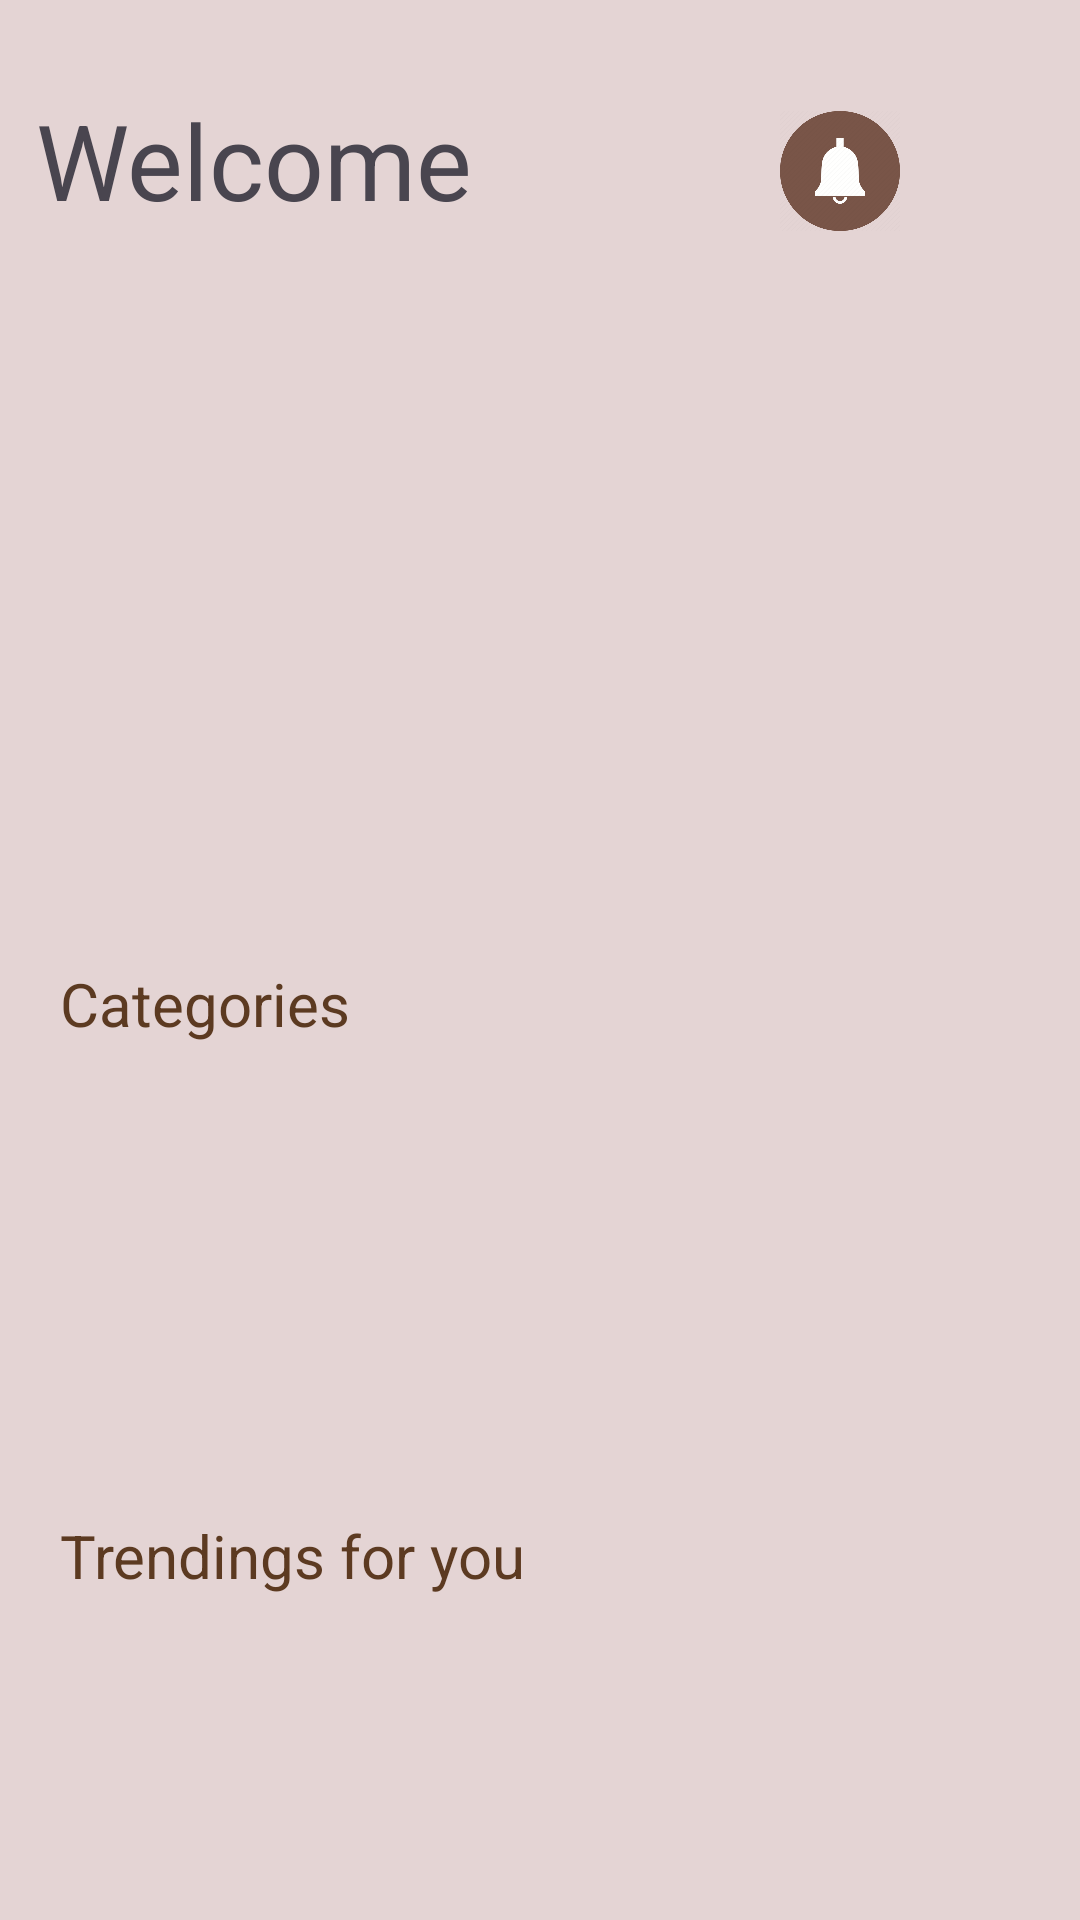

Icons on this 1080 x 1920 Android screen, each with the point to tap as point (x, y):
bellicon: point (840, 171)
